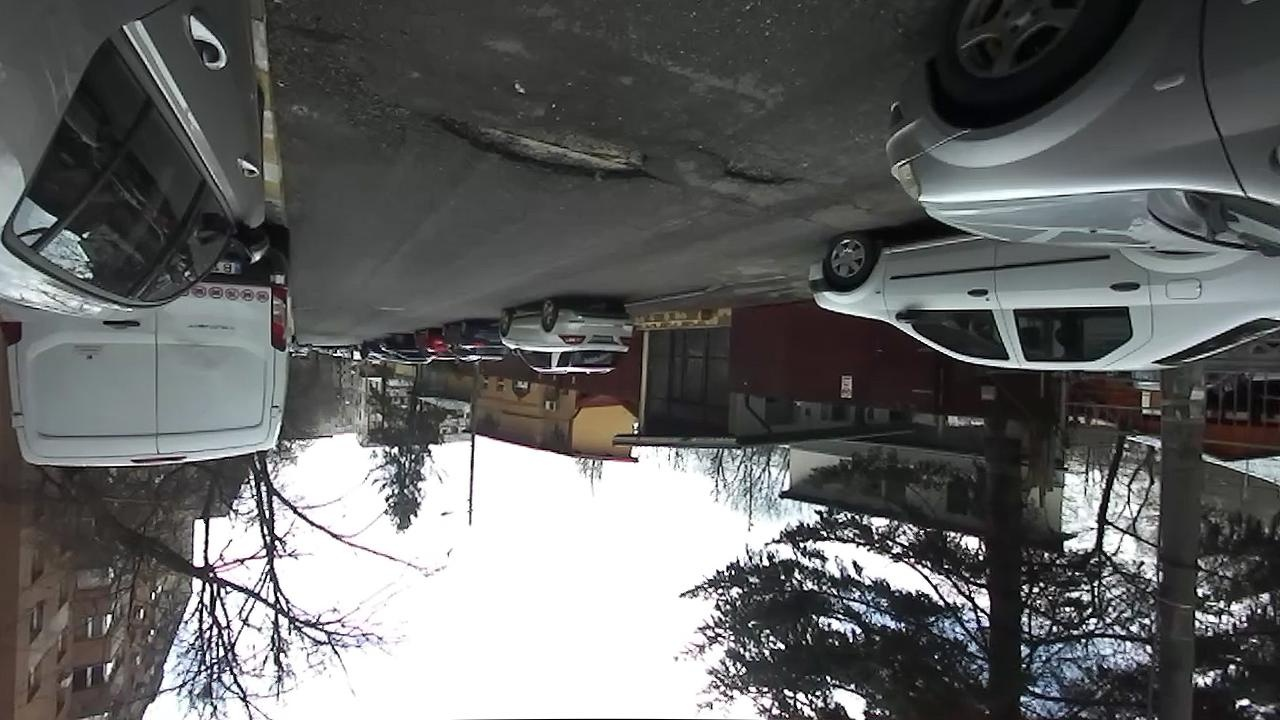pothole: (423, 103, 655, 183), (693, 143, 801, 191)
